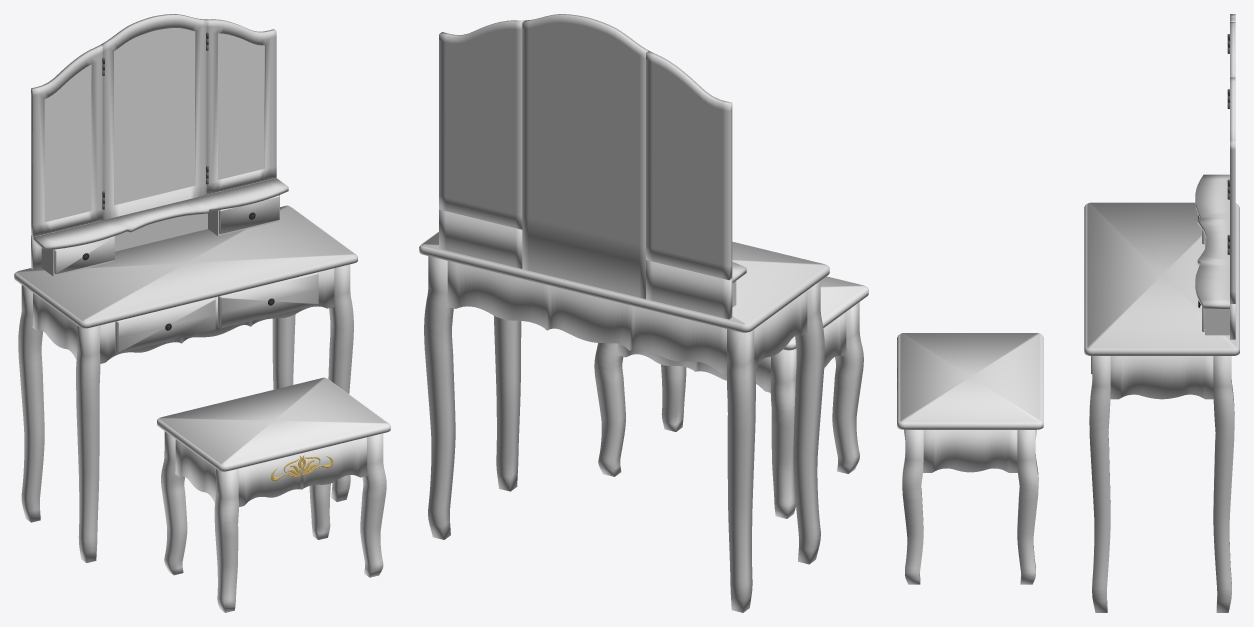
File: makeup_table.glb
3 views of the same model, side by side, from view 1: azimuth 30°, elevation 25°; view 2: azimuth 150°, elevation 25°; view 3: azimuth 270°, elevation 25° (orthographic). The views are drawn at different scales.
Visible parts, largest first — view 1: cubicele.009, cubicele.008, cubicele.001, Make up table, cubicele.005, cubicele.006; view 2: cubicele.009, Make up table, cubicele.008, cubicele.001; view 3: cubicele.008, cubicele.001, Make up table, cubicele.009.
Part boxes in pixels (bbox=[...]): cubicele.009: bbox=[31, 14, 288, 276]; cubicele.008: bbox=[157, 377, 390, 612]; cubicele.001: bbox=[14, 205, 357, 328]; Make up table: bbox=[18, 264, 353, 562]; cubicele.005: bbox=[115, 272, 318, 353]; cubicele.006: bbox=[54, 195, 279, 274]; cubicele.009: bbox=[439, 14, 746, 319]; Make up table: bbox=[424, 256, 824, 612]; cubicele.008: bbox=[594, 276, 868, 518]; cubicele.001: bbox=[419, 232, 829, 332]; cubicele.008: bbox=[897, 333, 1043, 584]; cubicele.001: bbox=[1084, 202, 1239, 355]; Make up table: bbox=[1089, 356, 1234, 612]; cubicele.009: bbox=[1195, 14, 1235, 339].
Size of the model in its own units: 0.9 by 1.45 by 0.8809.
Materials: 6 (1 with a texture image).
